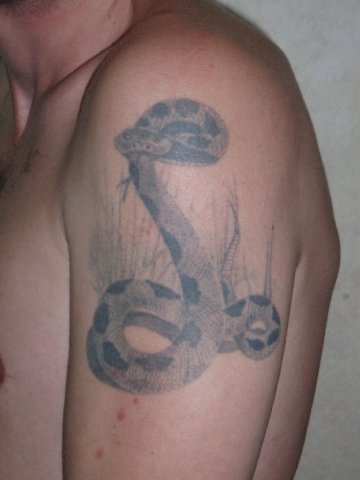tatu7_zmeya: (77, 91, 288, 403)
